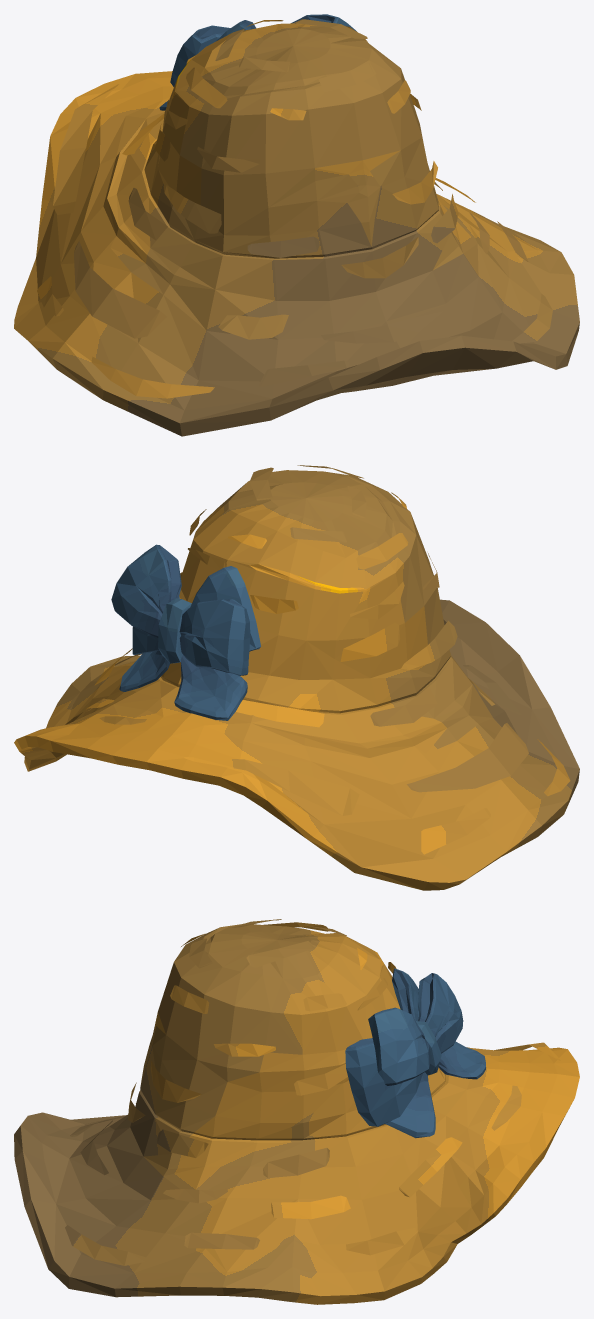
The model's file is CharSkyKid_Hat_AP31FloppyHat.glb.
3 views of the same model, one above another, from view 1: azimuth 30°, elevation 25°; view 2: azimuth 150°, elevation 25°; view 3: azimuth 270°, elevation 25° (orthographic). The views are drawn at different scales.
Parts seen in each view (by area): view 1: CharSkyKid_Hat_AP31FloppyHat; view 2: CharSkyKid_Hat_AP31FloppyHat; view 3: CharSkyKid_Hat_AP31FloppyHat.
Boxes of the visible parts, x1,y1,x2,y2 form: CharSkyKid_Hat_AP31FloppyHat: (14, 14, 579, 436); CharSkyKid_Hat_AP31FloppyHat: (14, 465, 579, 890); CharSkyKid_Hat_AP31FloppyHat: (14, 919, 579, 1304).
Bounding box in the file's own units: 6 × 3.62 × 6.42.
1 material, 1 textured.
